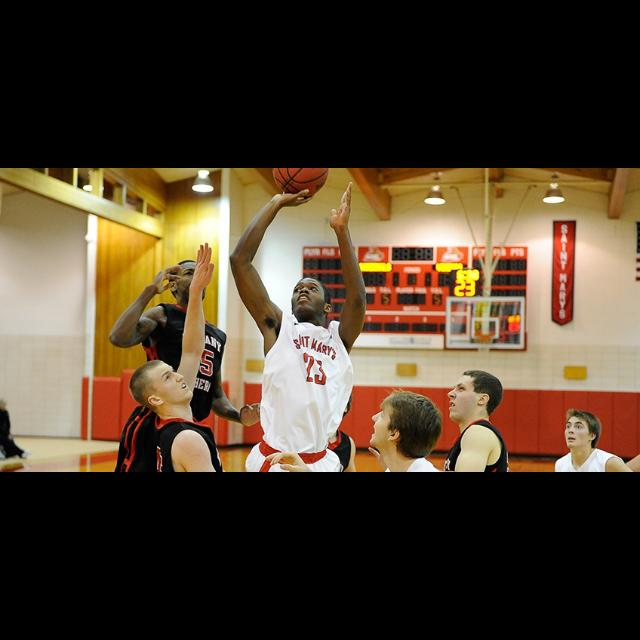head: (372, 390, 442, 464), (130, 362, 194, 412), (446, 371, 504, 422), (290, 276, 334, 322), (170, 260, 208, 302), (316, 386, 354, 424), (564, 412, 602, 448)
